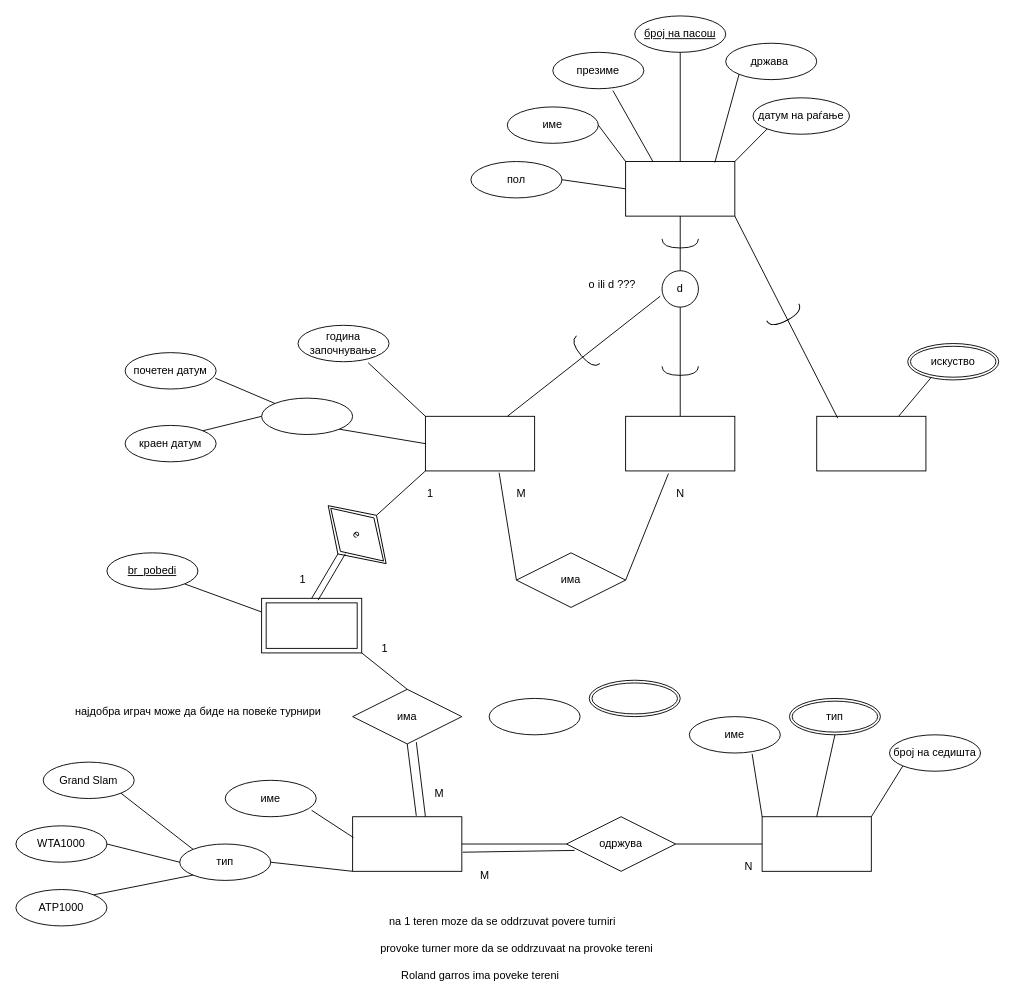
This 1015x1006 diagram has some shape labels left out. Here are the shapes that lost their labels. From the top down, the centre of each, then its label:
(680,188): Учесник
(307,416): ranking (ATP/WTP)
(480,443): Играч
(680,443): Тренер
(871,443): Судија
(311,625): Најдобар играч
(534,716): година на оддржување
(634,698): спонзор
(407,843): Турнир
(816,843): Терен
